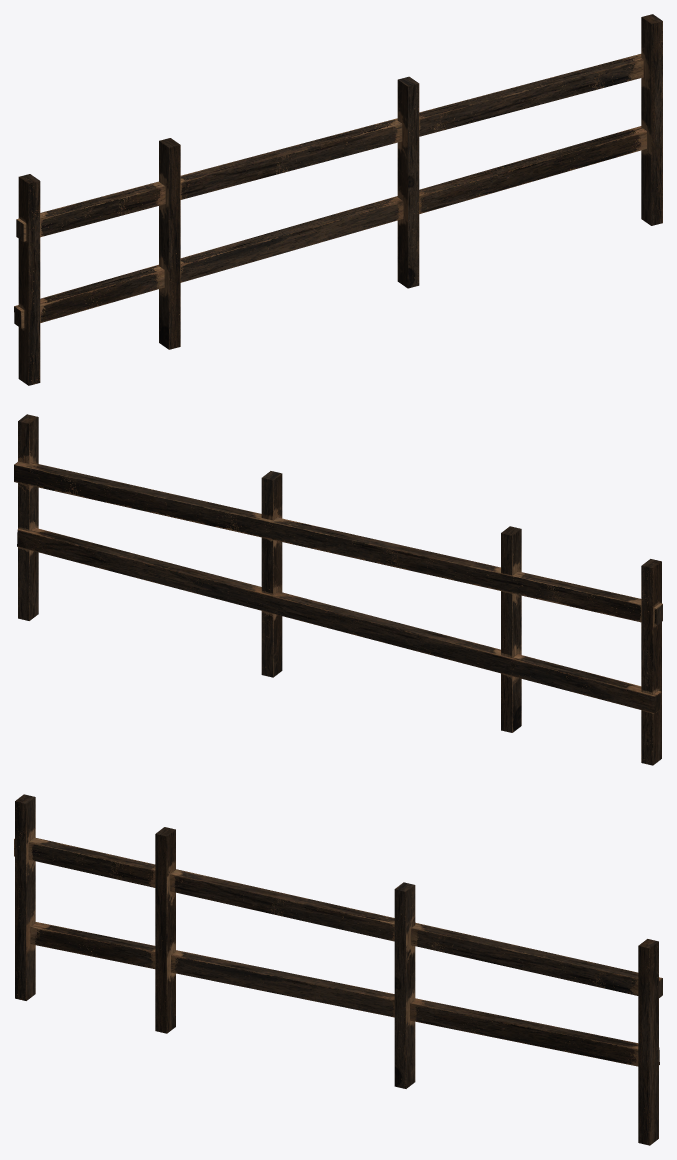
Rendered from SM_Railing.fbx.
3 views of the same model, one above another, from view 1: azimuth 30°, elevation 25°; view 2: azimuth 150°, elevation 25°; view 3: azimuth 330°, elevation 25° (orthographic). The views are drawn at different scales.
Parts seen in each view (by area): view 1: SM_Railing; view 2: SM_Railing; view 3: SM_Railing.
Part boxes in pixels (box(x1,y1,x2,y2)): SM_Railing: box(14, 14, 662, 385); SM_Railing: box(14, 414, 662, 765); SM_Railing: box(14, 794, 662, 1145).
Size of the model in its own units: 381 by 114 by 22.98.
